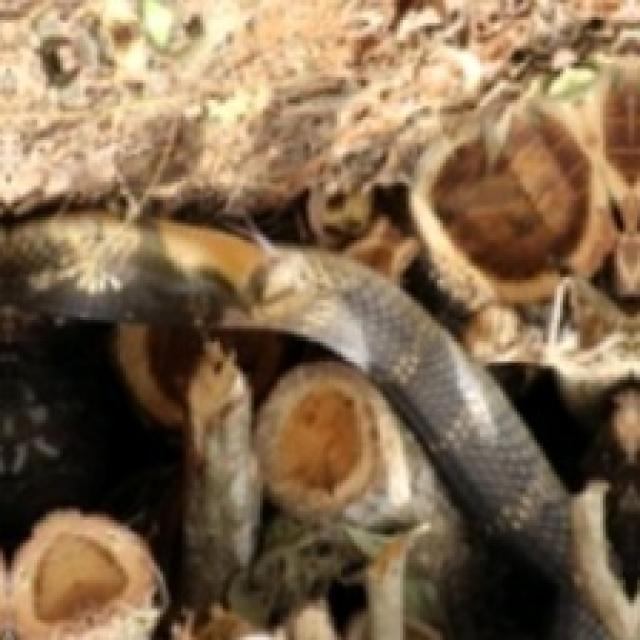king cobra: (0, 211, 568, 568)
